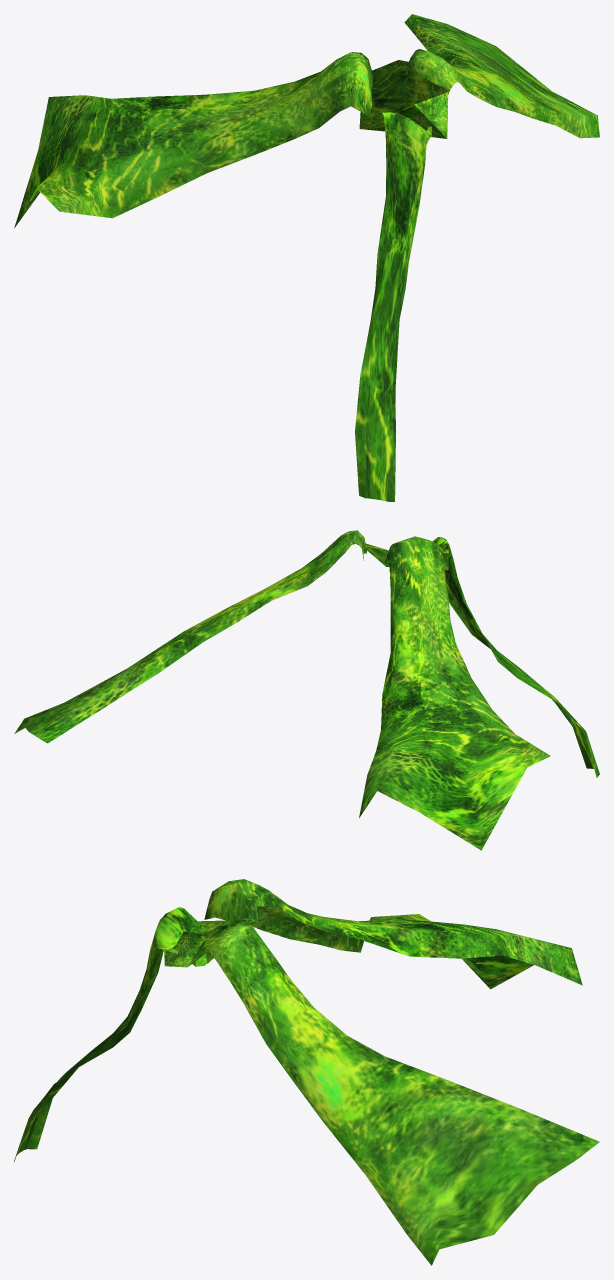
The model's file is stg610_MotLiquid_03.obj.
3 views of the same model, one above another, from view 1: azimuth 30°, elevation 25°; view 2: azimuth 150°, elevation 25°; view 3: azimuth 270°, elevation 25° (orthographic). The views are drawn at different scales.
Parts seen in each view (by area): view 1: polygon1, polygon0; view 2: polygon1; view 3: polygon1, polygon0.
Boxes of the visible parts, left/top/right/bottom form: polygon1: left=14, top=14, right=599, bottom=501; polygon0: left=359, top=60, right=448, bottom=138; polygon1: left=14, top=530, right=599, bottom=850; polygon1: left=14, top=879, right=599, bottom=1265; polygon0: left=164, top=919, right=263, bottom=967.
Bounding box in the file's own units: 1029 × 576 × 960.
2 materials, 2 textured.
